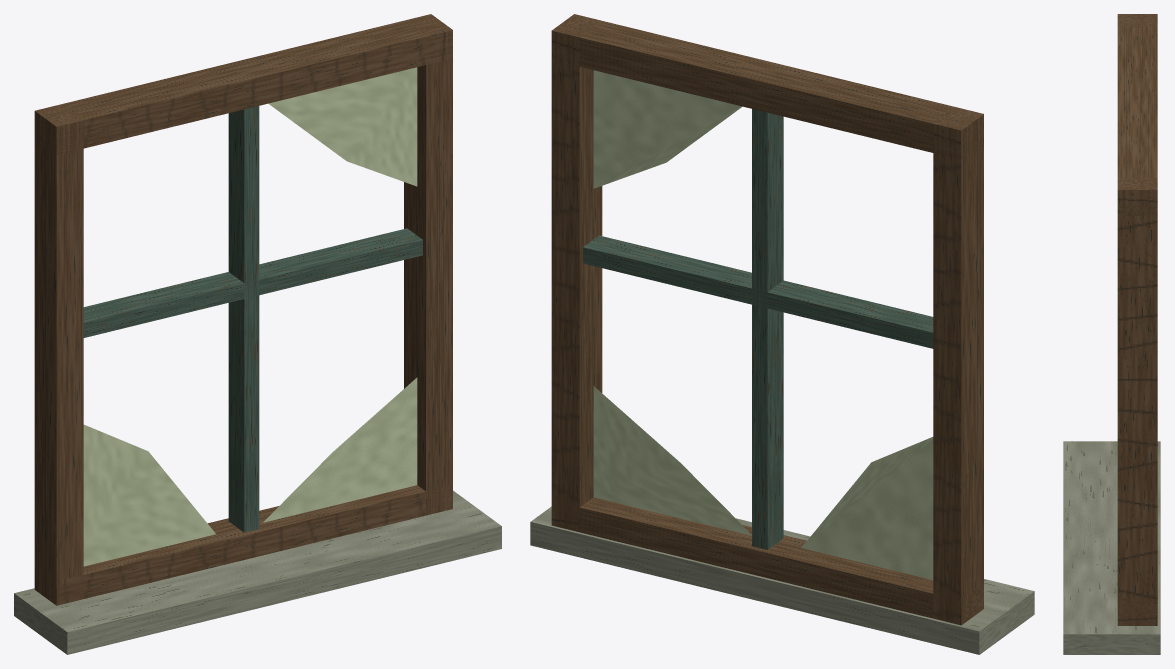
Rendered from BrokenWindow.glb.
The picture shows the model from 3 angles, left to right: view 1: azimuth 30°, elevation 25°; view 2: azimuth 150°, elevation 25°; view 3: azimuth 270°, elevation 25°; orthographic projection. The views are drawn at different scales.
Visible parts, largest first — view 1: BrokenWindow; view 2: BrokenWindow; view 3: BrokenWindow.
Part boxes in pixels (<box>): BrokenWindow: <box>14,14,501,654</box>; BrokenWindow: <box>530,14,1034,654</box>; BrokenWindow: <box>1063,14,1160,654</box>.
Size of the model in its own units: 1.6 by 1.77 by 0.34.
4 materials, 4 textured.
